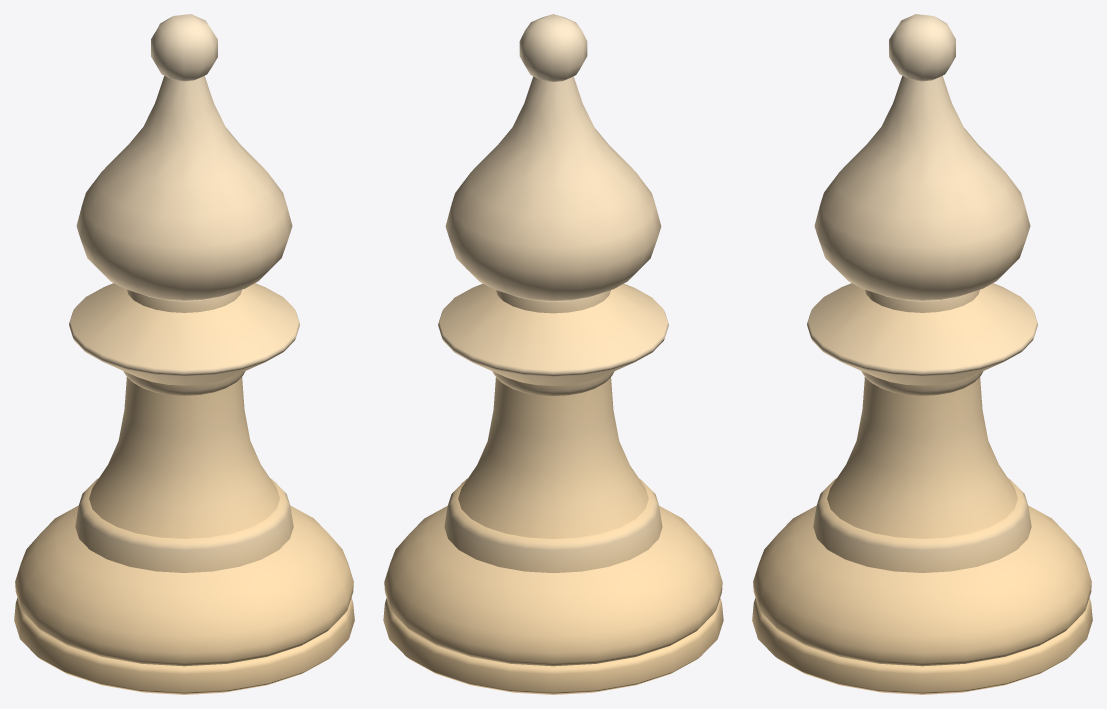
Rendered from Chess_White_Bishop_01.fbx.
3 views of the same model, side by side, from view 1: azimuth 30°, elevation 25°; view 2: azimuth 150°, elevation 25°; view 3: azimuth 270°, elevation 25° (orthographic).
Parts seen in each view (by area): view 1: Chess_White_Bishop_01; view 2: Chess_White_Bishop_01; view 3: Chess_White_Bishop_01.
Boxes of the visible parts, box(x1,y1,x2,y2) form: Chess_White_Bishop_01: box(14, 14, 354, 694); Chess_White_Bishop_01: box(383, 14, 723, 694); Chess_White_Bishop_01: box(752, 14, 1092, 694).
Size of the model in its own units: 3.64 by 7.21 by 3.64.
